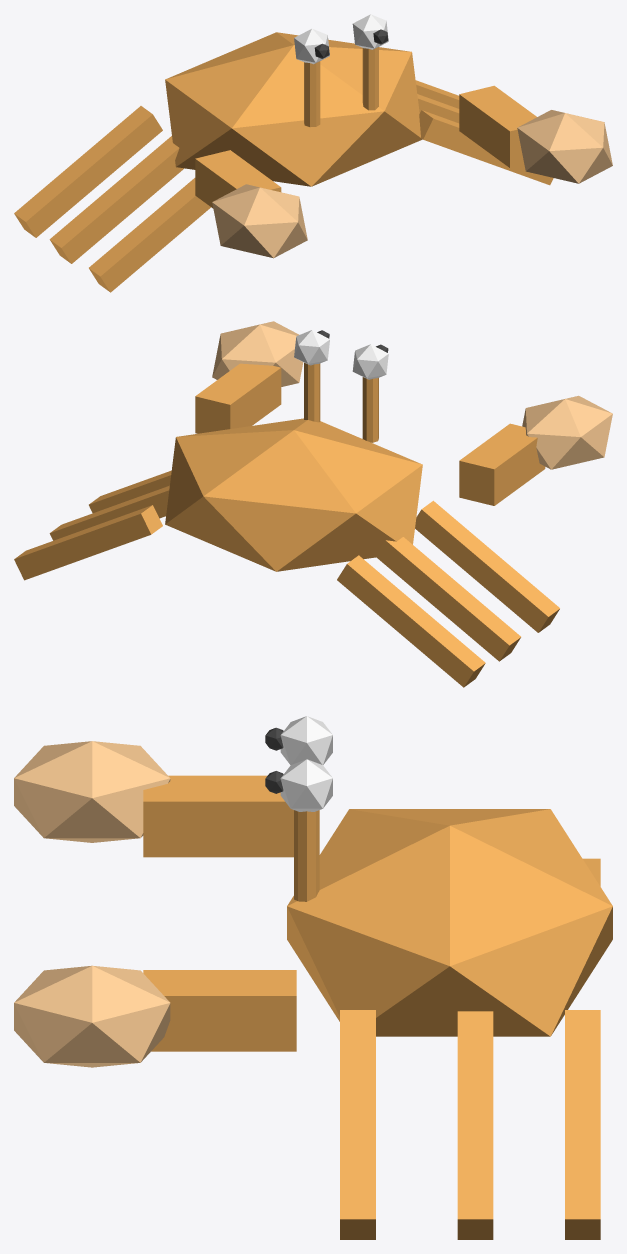
File: Crab.fbx
The picture shows the model from 3 angles, top to bottom: view 1: azimuth 30°, elevation 25°; view 2: azimuth 150°, elevation 25°; view 3: azimuth 270°, elevation 25°; orthographic projection. The views are drawn at different scales.
Visible parts, largest first — view 1: Body, Limb_ClawR, Limb_ClawL, Limb_Eyes; view 2: Body, Limb_ClawL, Limb_ClawR, Limb_Eyes; view 3: Body, Limb_ClawR, Limb_ClawL, Limb_Eyes.
Part boxes in pixels (x1,y1,x2,y2): Body: (14, 32, 553, 292); Limb_ClawR: (459, 85, 612, 183); Limb_ClawL: (195, 150, 307, 258); Limb_Eyes: (294, 14, 388, 127); Body: (14, 418, 559, 687); Limb_ClawL: (459, 395, 612, 505); Limb_ClawR: (195, 321, 303, 433); Limb_Eyes: (294, 330, 388, 442); Body: (287, 809, 612, 1239); Limb_ClawR: (14, 965, 296, 1067); Limb_ClawL: (14, 741, 293, 857); Limb_Eyes: (265, 716, 332, 901).
Size of the model in its own units: 1.57 by 0.7353 by 1.17.
